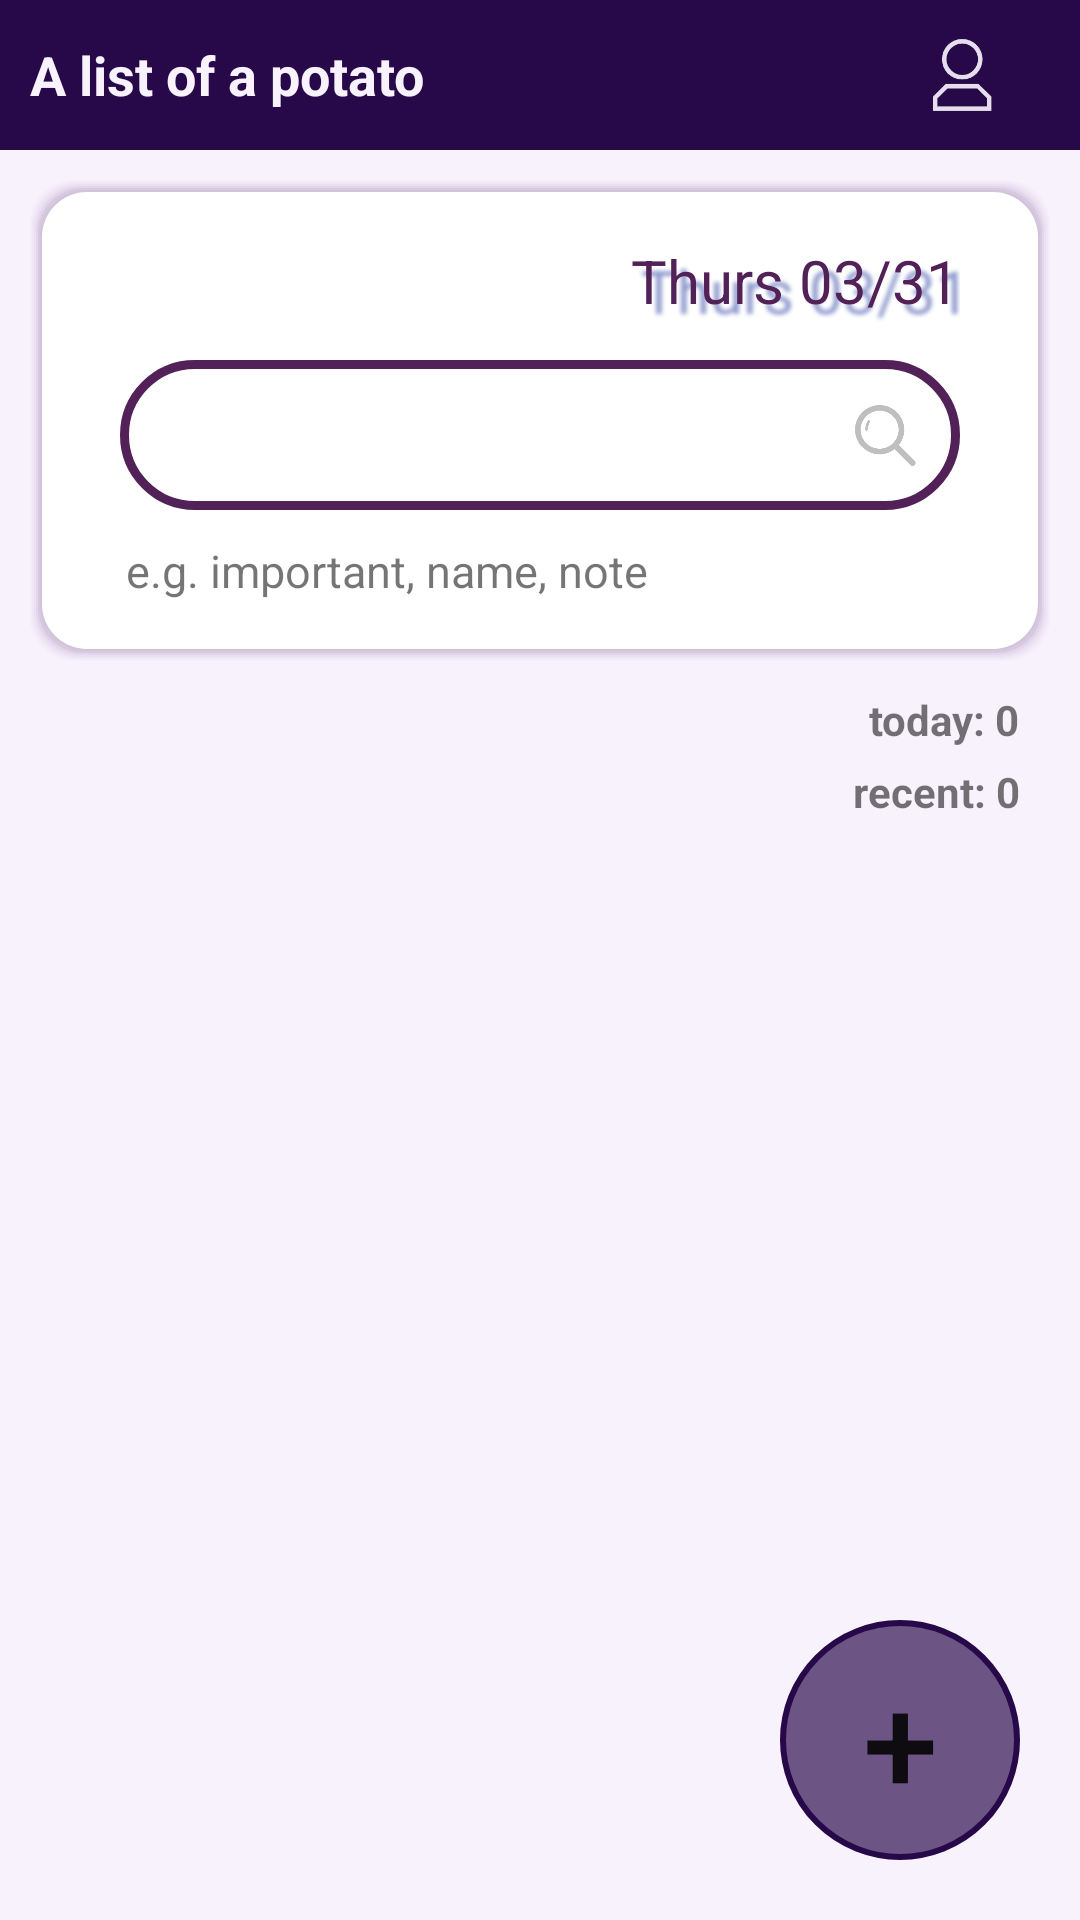

Screen size 1080*1920. Icon name, then its box in pixels as box(x1, y1, x2, y2):
search: box(810, 360, 960, 510)
user: box(933, 39, 992, 111)
